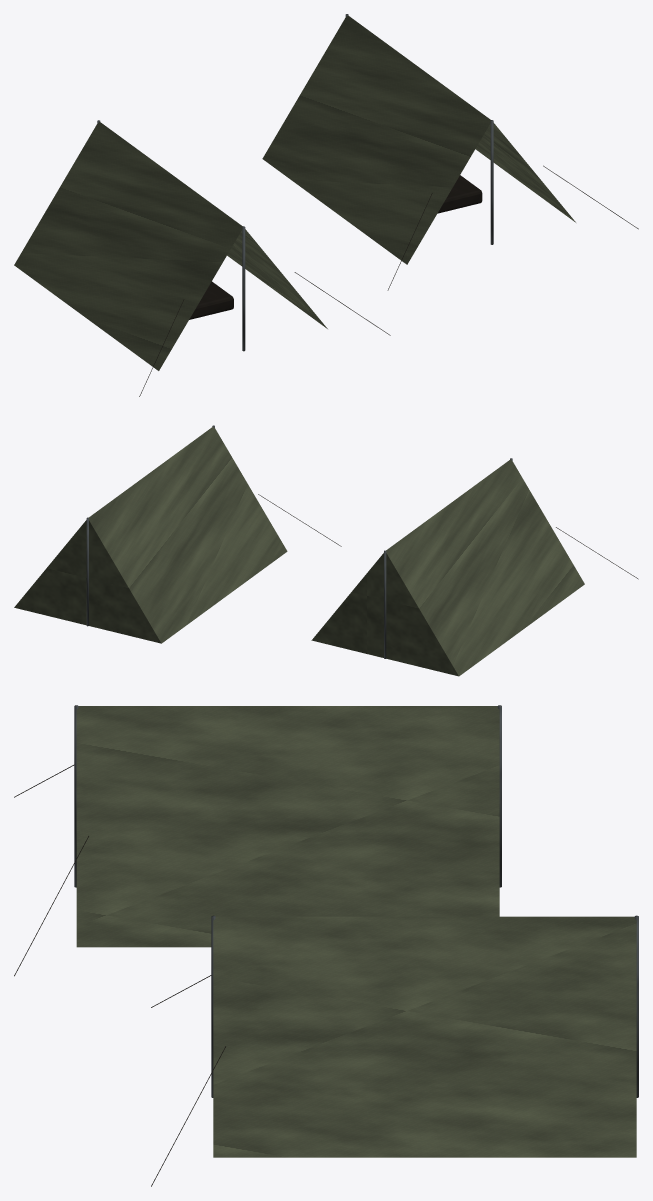
Rendered from camp.glb.
3 renders of one model, top to bottom at view 1: azimuth 30°, elevation 25°; view 2: azimuth 150°, elevation 25°; view 3: azimuth 270°, elevation 25°, orthographic. The views are drawn at different scales.
Visible parts, largest first — view 1: Weathered_tent, Weathered_tent.001, Camp_bed.001, Camp_bed; view 2: Weathered_tent, Weathered_tent.001; view 3: Weathered_tent.001, Weathered_tent.
Boxes of the visible parts, x1,y1,x2,y2 form: Weathered_tent: (14,121,327,370); Weathered_tent.001: (262,15,575,264); Camp_bed.001: (437,175,482,213); Camp_bed: (189,281,233,319); Weathered_tent: (311,459,584,676); Weathered_tent.001: (14,427,287,643); Weathered_tent.001: (213,916,636,1157); Weathered_tent: (76,706,499,947).
Size of the model in its own units: 7.4 by 1.6 by 5.02.
3 materials, 3 textured.
